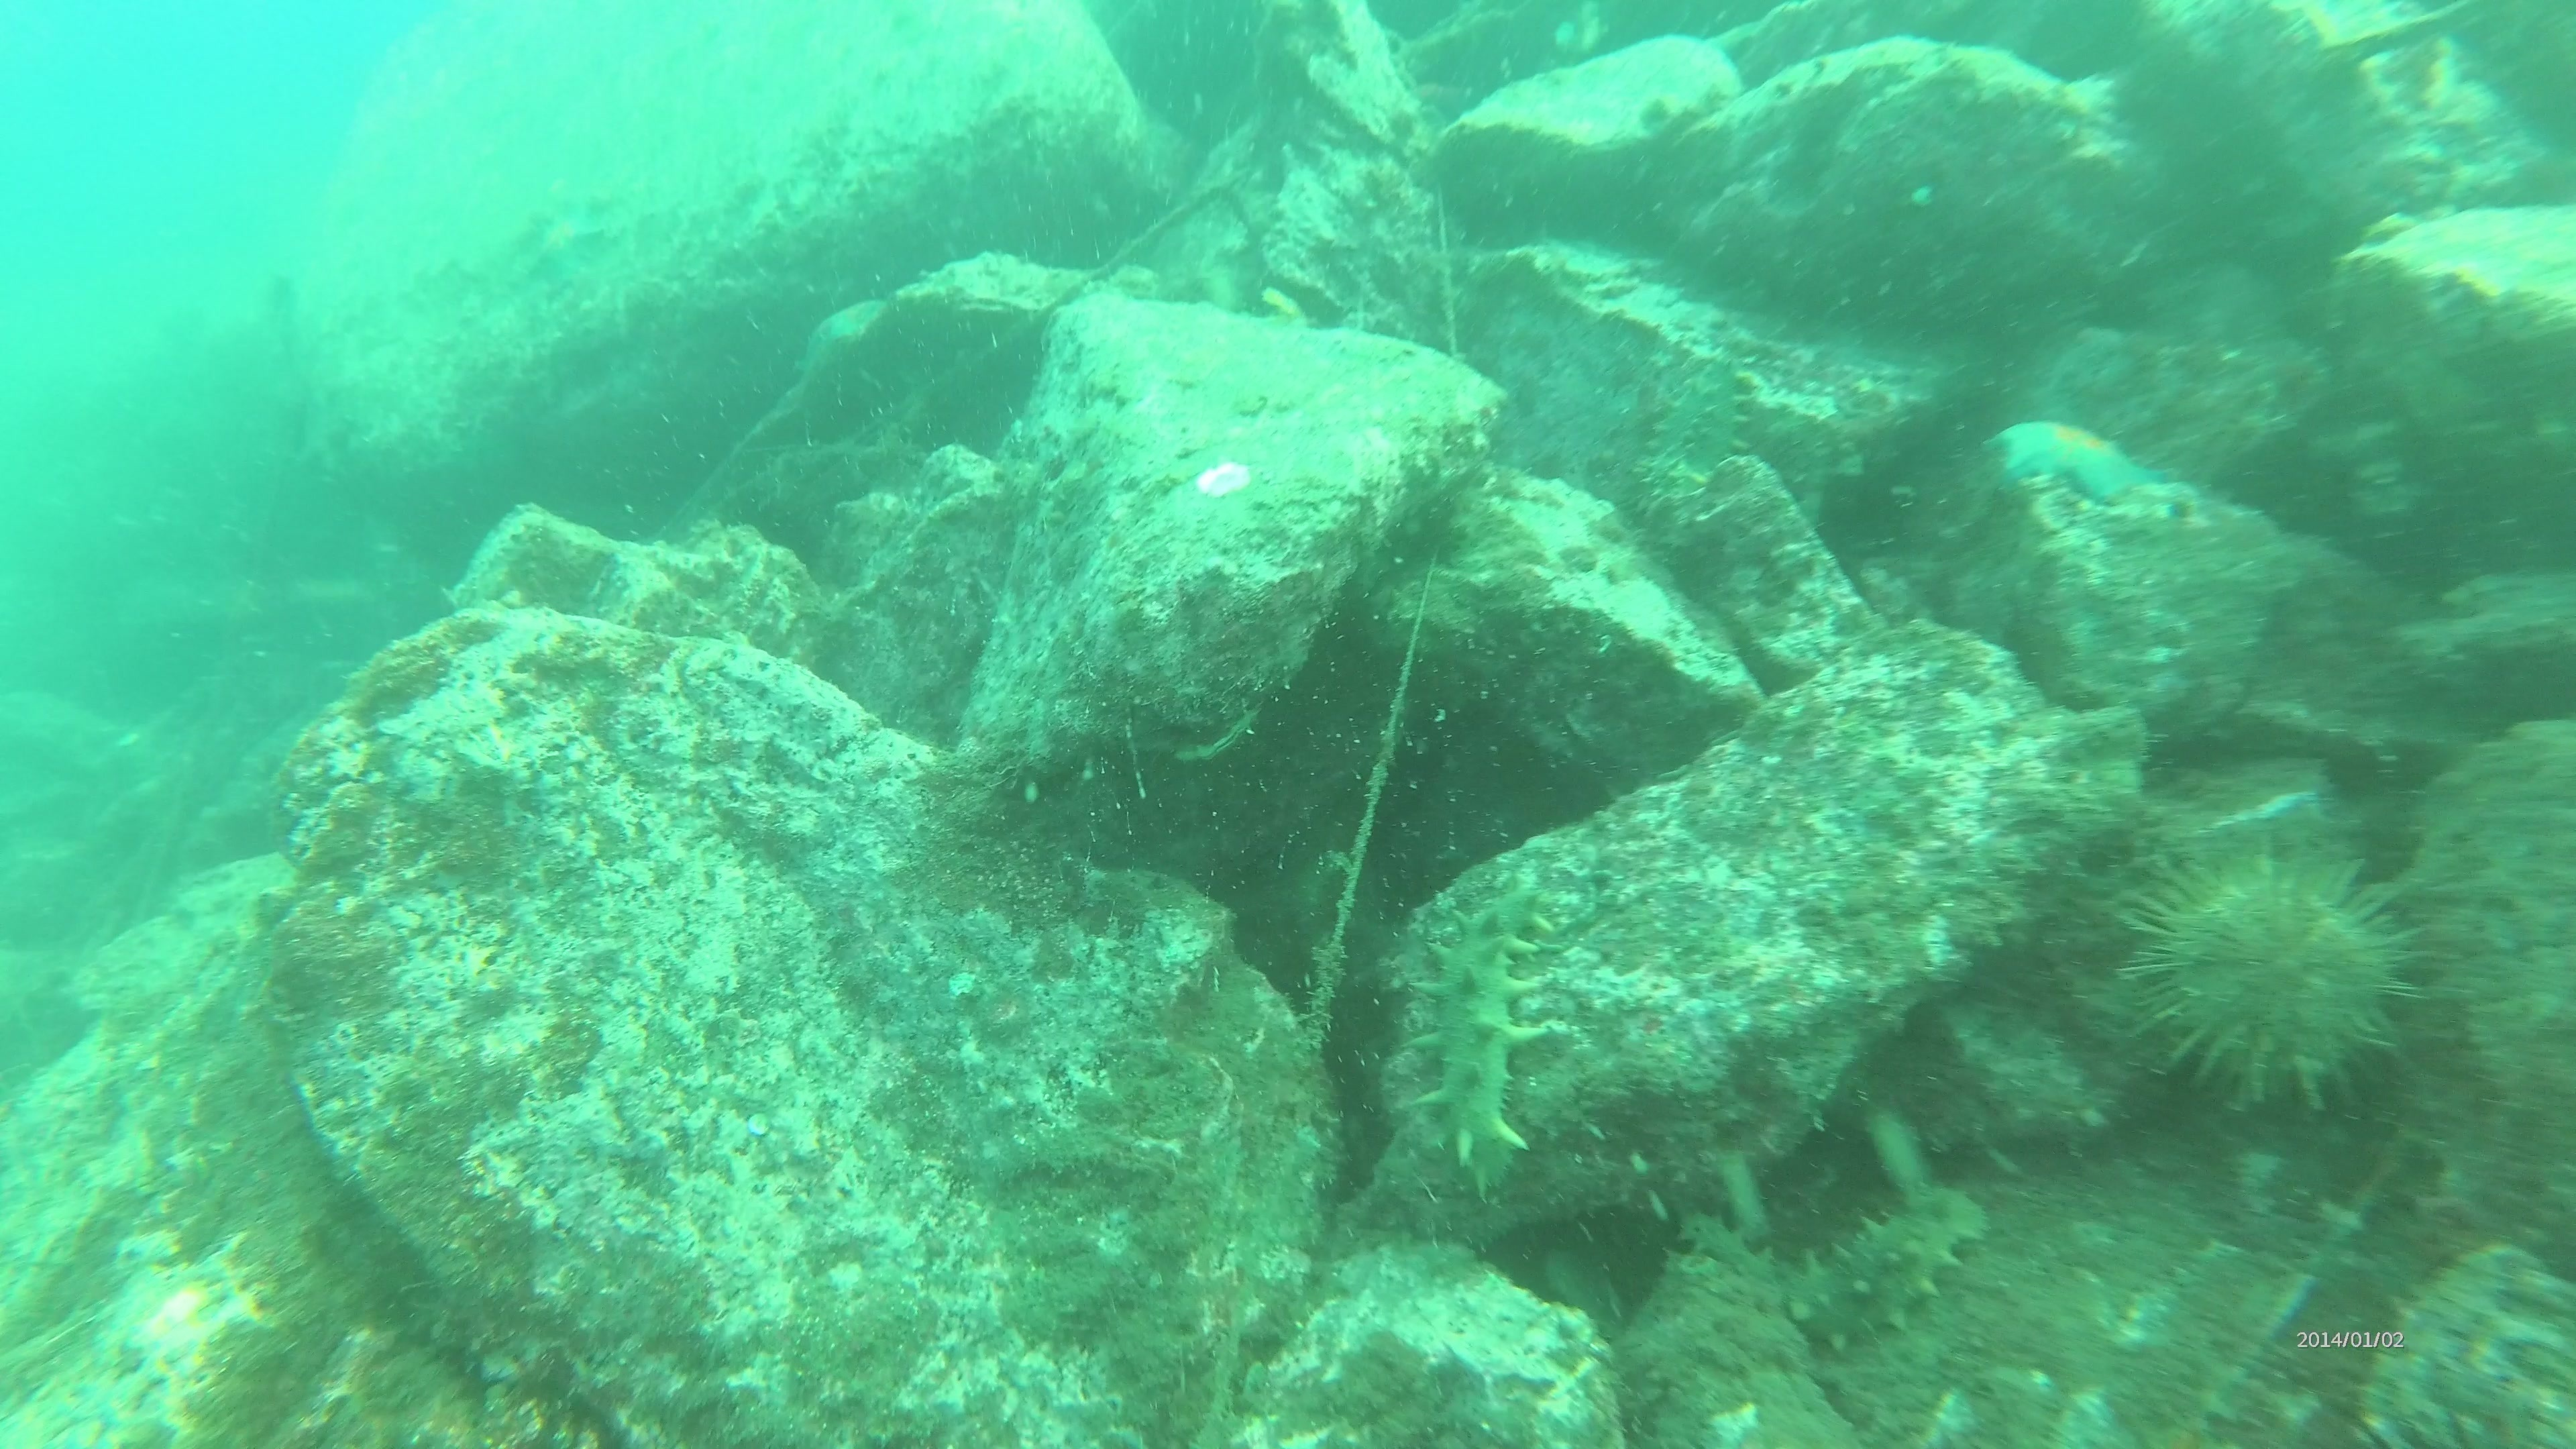echinus: (2112, 840, 2436, 1118)
holothurian: (1394, 874, 1560, 1200), (1780, 1178, 1996, 1362), (1629, 354, 1757, 550)
starfish: (1987, 410, 2171, 513), (513, 193, 617, 290)
